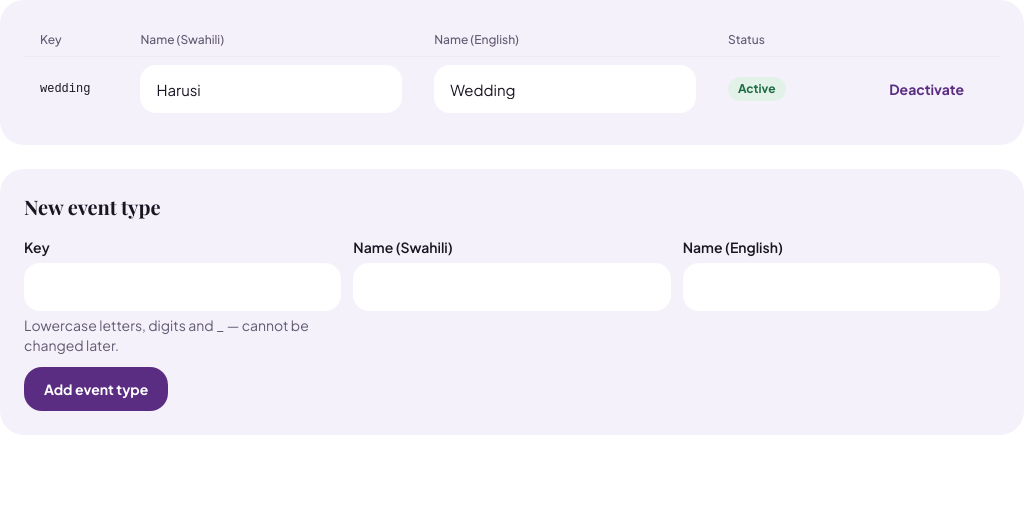
Test case: EventTypesAdmin › validates, creates, and shows a duplicate-key error
Click the button "Add event type" at (96, 389), box [24,367,168,411]
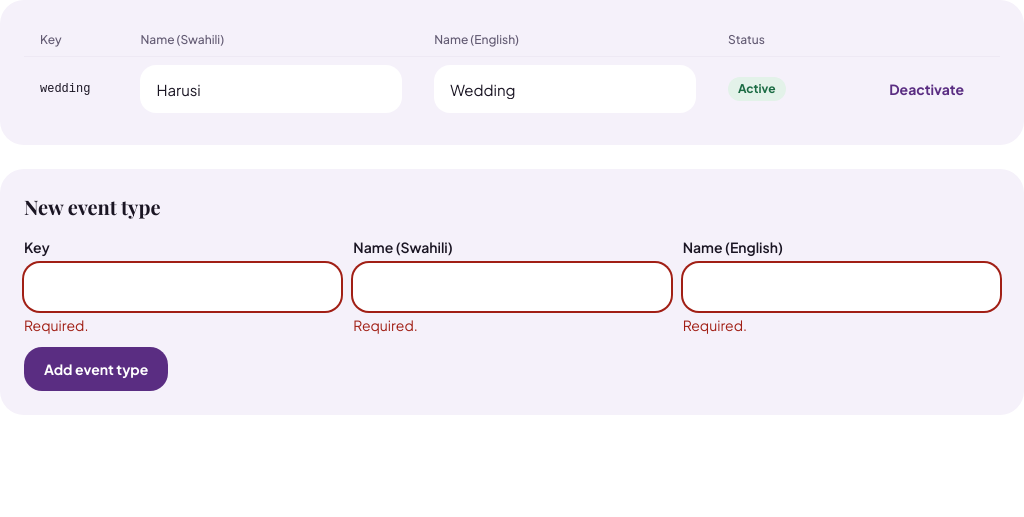
Check: the text "Required." is shown 3 times, box [24,316,88,334]; [353,316,418,334]; [683,316,747,334]
Type "1 bad" into the field labelled "Key" at (183, 287), box [24,263,341,311]
Click the button "Add event type" at (96, 369), box [24,347,168,391]
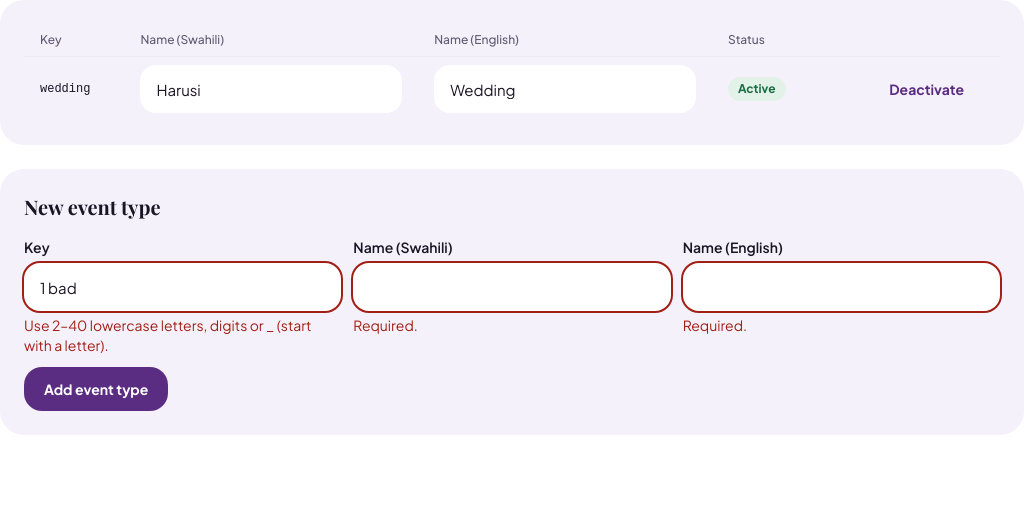
Check: the text "Use 2–40 lowercase letters, digits or _ (start with a letter)." is shown, box [24,315,341,355]
Replace the text in the field labelled "Key" with "Graduation" at (183, 287), box [24,263,341,311]
Type "Mahafali" into the field labelled "Name (Swahili)" at (512, 287), box [353,263,671,311]
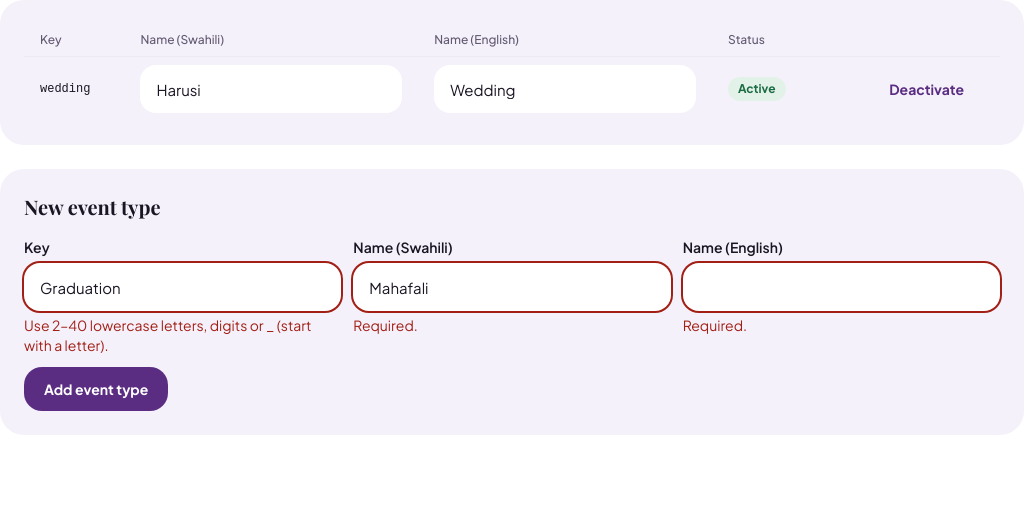
Type "Graduation" into the field labelled "Name (English)" at (841, 287), box [683,263,1000,311]
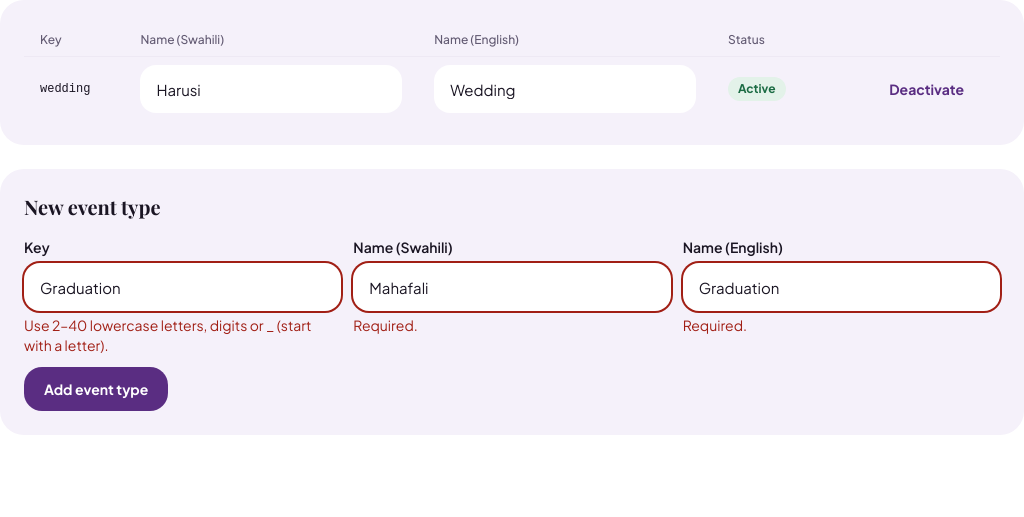
Click the button "Add event type" at (96, 389), box [24,367,168,411]
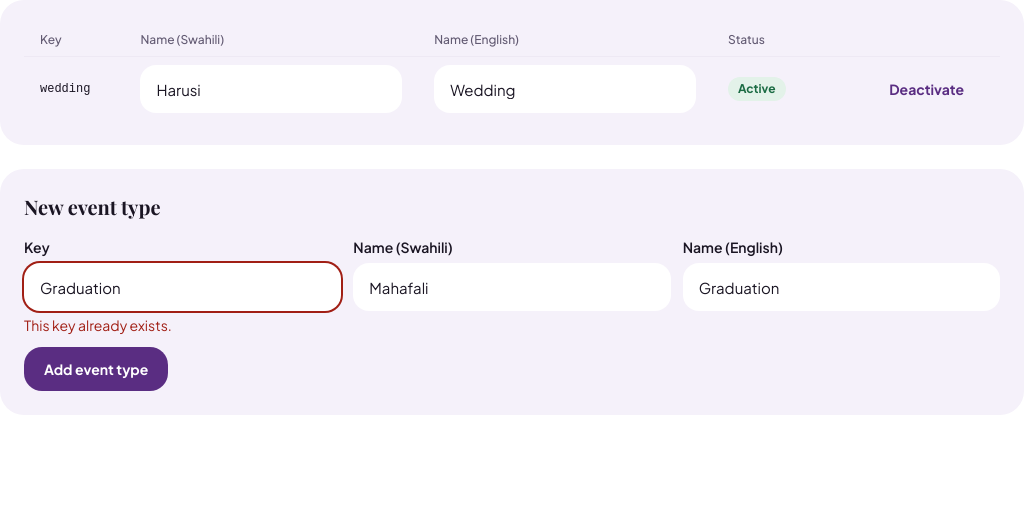
Check: the text "This key already exists." is shown, box [24,316,172,334]
Click the button "Add event type" at (96, 369), box [24,347,168,391]
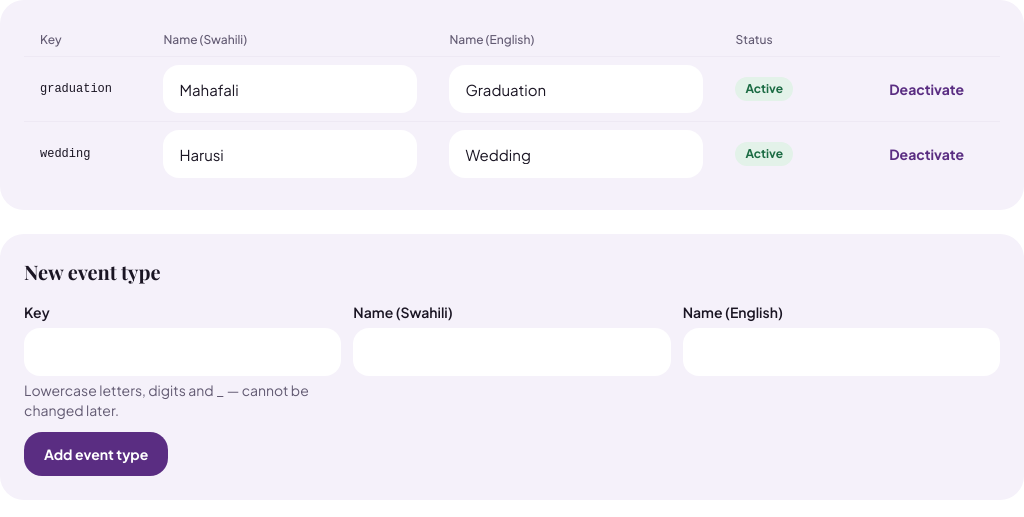
Check: the text "graduation" is shown, box [24,56,147,122]
